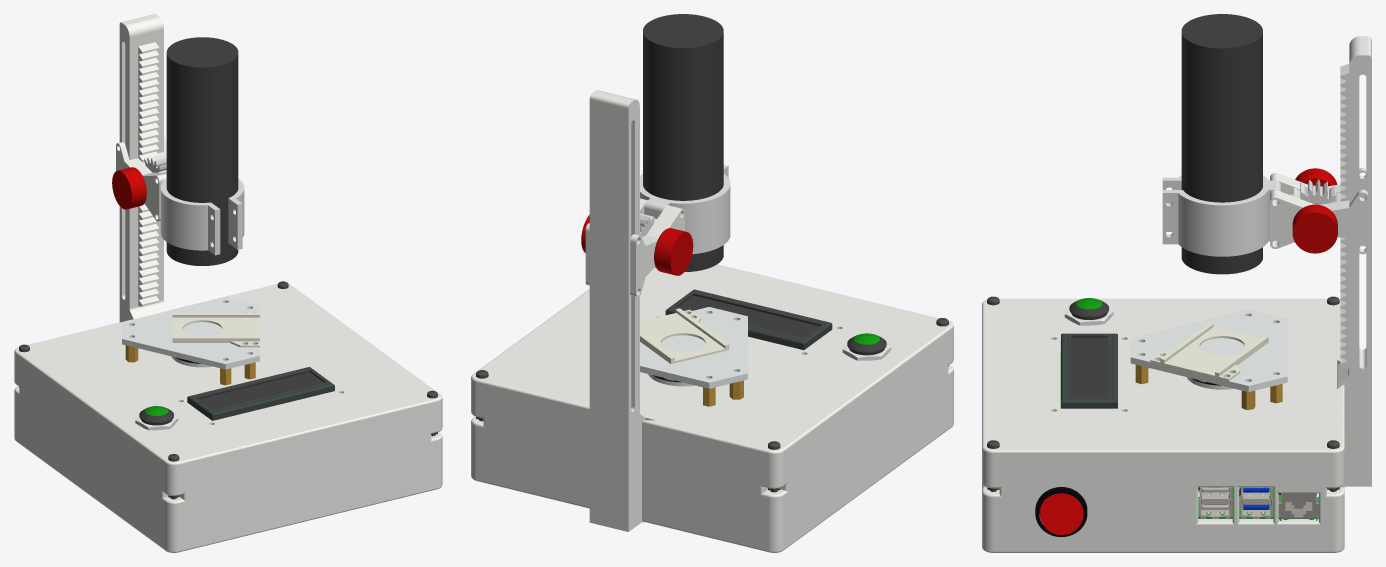
Rendered from MOBIV.glb.
3 views of the same model, side by side, from view 1: azimuth 30°, elevation 25°; view 2: azimuth 150°, elevation 25°; view 3: azimuth 270°, elevation 25° (orthographic). The views are drawn at different scales.
Parts seen in each view (by area): view 1: Node9, Node35, Node39, Node10, Node13, Node32, Node33, Node7, Node37; view 2: Node9, Node35, Node39, Node10, Node13, Node33, Node32, Node7; view 3: Node9, Node35, Node10, Node39, Node7, Node13, Node33, Node32, Node2, Node28, Node41, Node37 (+1 smaller).
Boxes of the visible parts, bbox=[...] form: Node9: bbox=[14, 14, 442, 552]; Node35: bbox=[139, 37, 238, 425]; Node39: bbox=[122, 297, 259, 369]; Node10: bbox=[142, 153, 244, 367]; Node13: bbox=[172, 312, 259, 347]; Node32: bbox=[187, 367, 334, 420]; Node33: bbox=[139, 370, 325, 423]; Node7: bbox=[112, 167, 146, 209]; Node37: bbox=[125, 345, 255, 385]; Node9: bbox=[471, 90, 953, 552]; Node35: bbox=[643, 14, 886, 355]; Node39: bbox=[640, 307, 747, 388]; Node10: bbox=[640, 165, 730, 386]; Node13: bbox=[640, 308, 729, 363]; Node33: bbox=[676, 293, 886, 353]; Node32: bbox=[665, 289, 832, 350]; Node7: bbox=[581, 215, 693, 275]; Node9: bbox=[982, 36, 1371, 552]; Node35: bbox=[1069, 14, 1262, 319]; Node10: bbox=[1162, 175, 1340, 389]; Node39: bbox=[1130, 309, 1287, 391]; Node7: bbox=[1039, 168, 1337, 534]; Node13: bbox=[1150, 322, 1268, 380]; Node33: bbox=[1069, 309, 1108, 398]; Node32: bbox=[1061, 333, 1117, 408]; Node2: bbox=[1198, 487, 1273, 518]; Node28: bbox=[1278, 493, 1318, 519]; Node41: bbox=[1035, 378, 1220, 536]; Node37: bbox=[1135, 365, 1282, 409].
Bounding box in the file's own units: 0.1673 × 0.2171 × 0.172.
